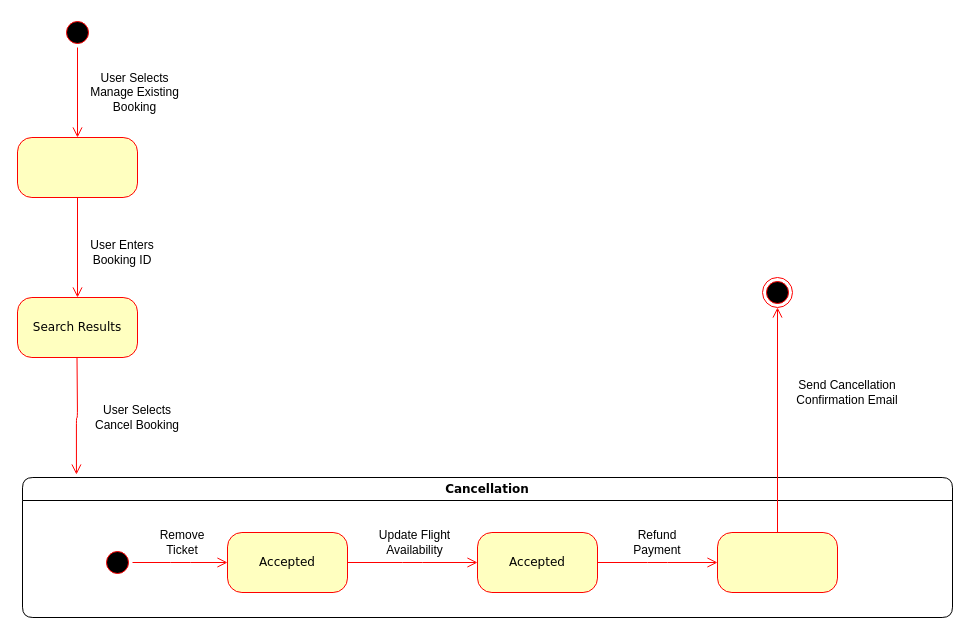
The diagram is 970 pixels wide and 635 high, and some of its shapes have lost their labels. Each missing label, with the centre of its shape:
"Credit Card Request Confirmation" belongs at pixel 777 562.
"Manage Booking Page" belongs at pixel 77 167.
